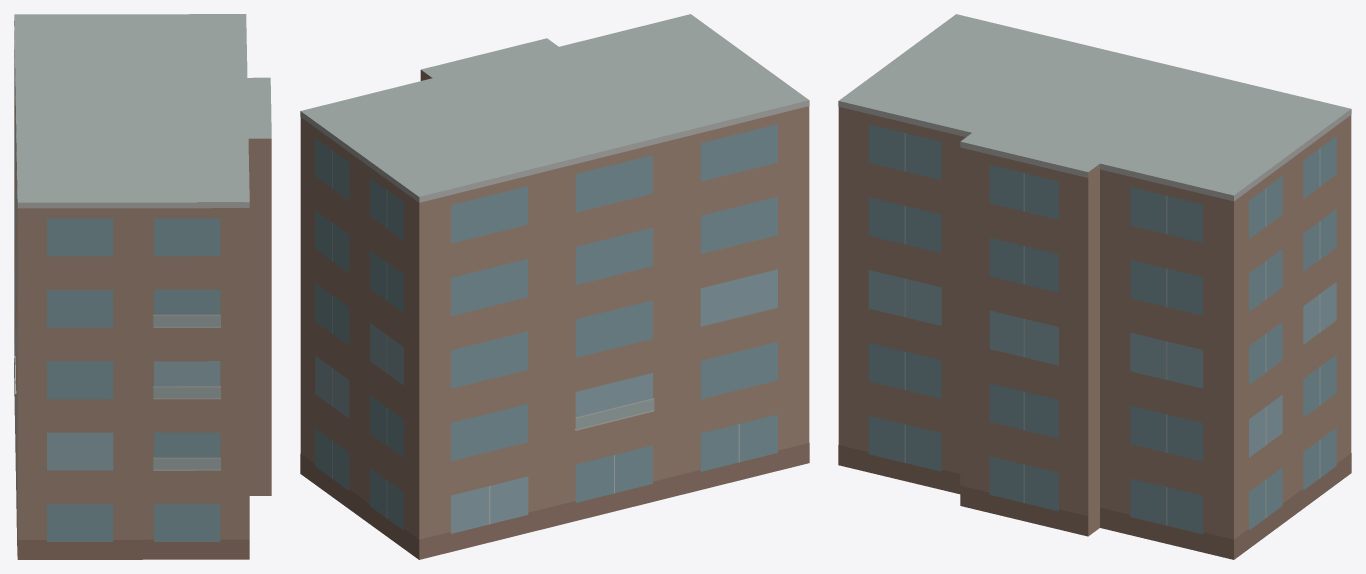
Rendered from survey-upis-32679398.glb.
3 views of the same model, side by side, from view 1: azimuth 30°, elevation 25°; view 2: azimuth 150°, elevation 25°; view 3: azimuth 270°, elevation 25° (orthographic).
Parts seen in each view (by area): view 1: survey-upis-32679398.tmp; view 2: survey-upis-32679398.tmp; view 3: survey-upis-32679398.tmp.
Boxes of the visible parts, left/top/right/bottom form: survey-upis-32679398.tmp: left=14, top=14, right=271, bottom=559; survey-upis-32679398.tmp: left=300, top=14, right=809, bottom=559; survey-upis-32679398.tmp: left=838, top=14, right=1351, bottom=559.
Bounding box in the file's own units: 16.31 × 15.25 × 19.47.
